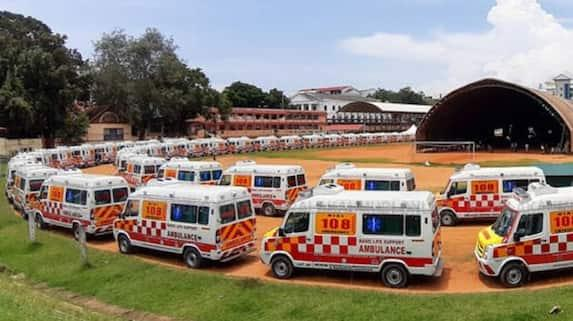ER: (262, 184, 443, 284), (113, 176, 257, 269), (474, 182, 573, 286), (35, 173, 133, 240), (437, 164, 546, 217), (219, 159, 307, 213), (320, 165, 415, 191), (14, 166, 58, 214), (155, 159, 223, 189), (125, 155, 165, 184)
